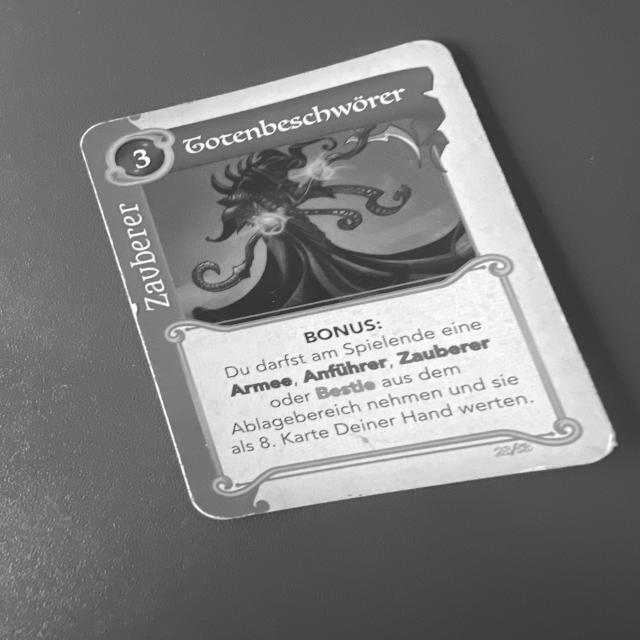Shapeshifter: (77, 34, 629, 525)
